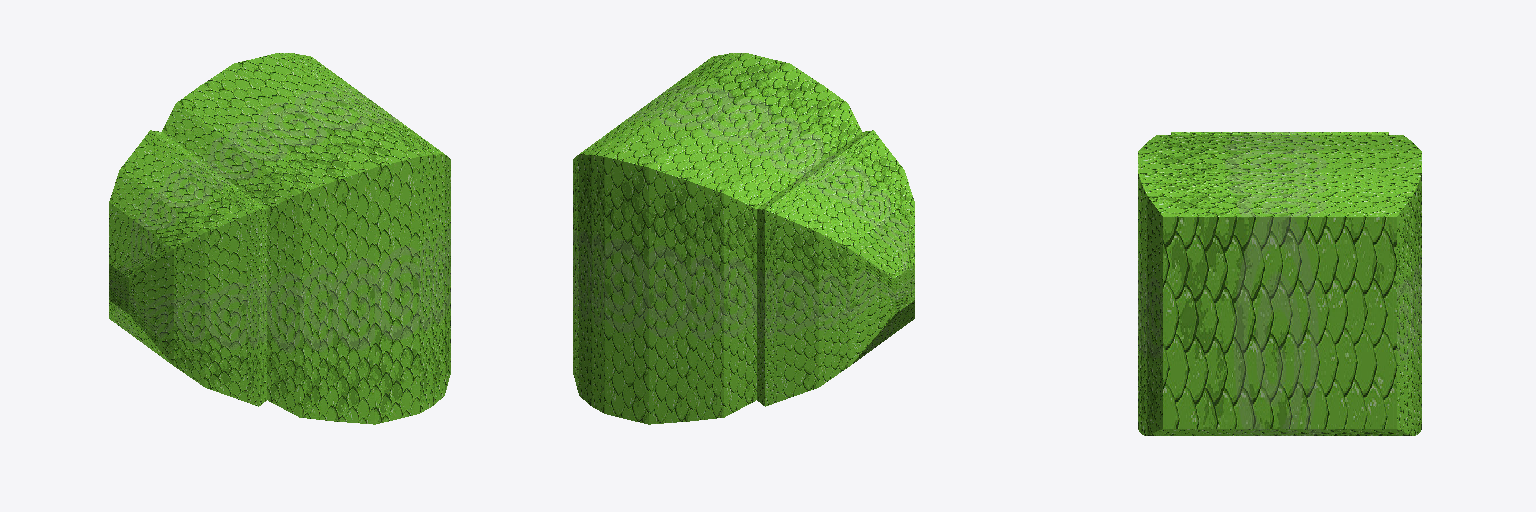
3 views of the same model, side by side, from view 1: azimuth 30°, elevation 25°; view 2: azimuth 150°, elevation 25°; view 3: azimuth 270°, elevation 25° (orthographic).
Visible parts, largest first — view 1: Plane.001; view 2: Plane.001; view 3: Plane.001.
Boxes of the visible parts, x1=… form: Plane.001: x1=109, y1=53, x2=450, y2=424; Plane.001: x1=573, y1=53, x2=914, y2=424; Plane.001: x1=1138, y1=132, x2=1421, y2=435.
Size of the model in its own units: 2.7 by 2.42 by 2.42.
1 materials, 1 textured.